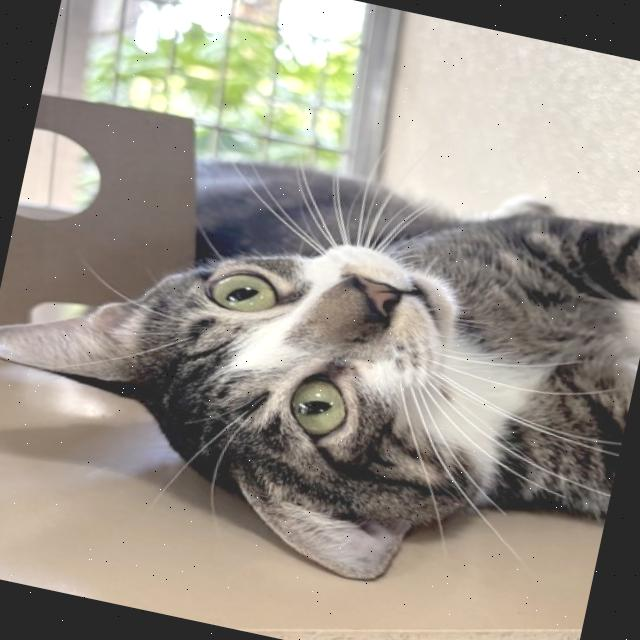domestic_short_hair_cat: (0, 153, 541, 611)
